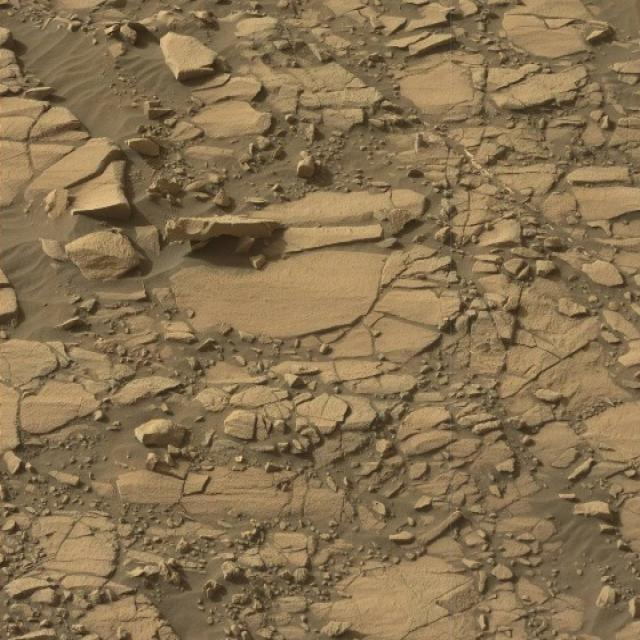rock: (157, 217, 300, 248), (62, 230, 146, 280), (156, 30, 222, 86)
